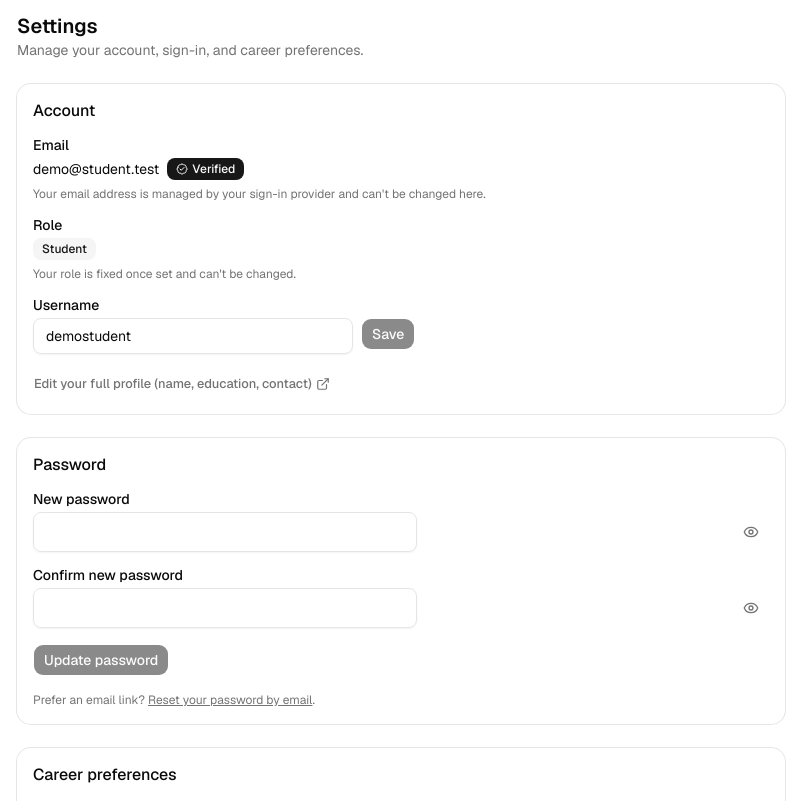
it: SettingsView › changes the password via the established updatePassword flow
In the password field labelled "New password": (225,532) [33,512,417,552], type "Str0ngPass1"
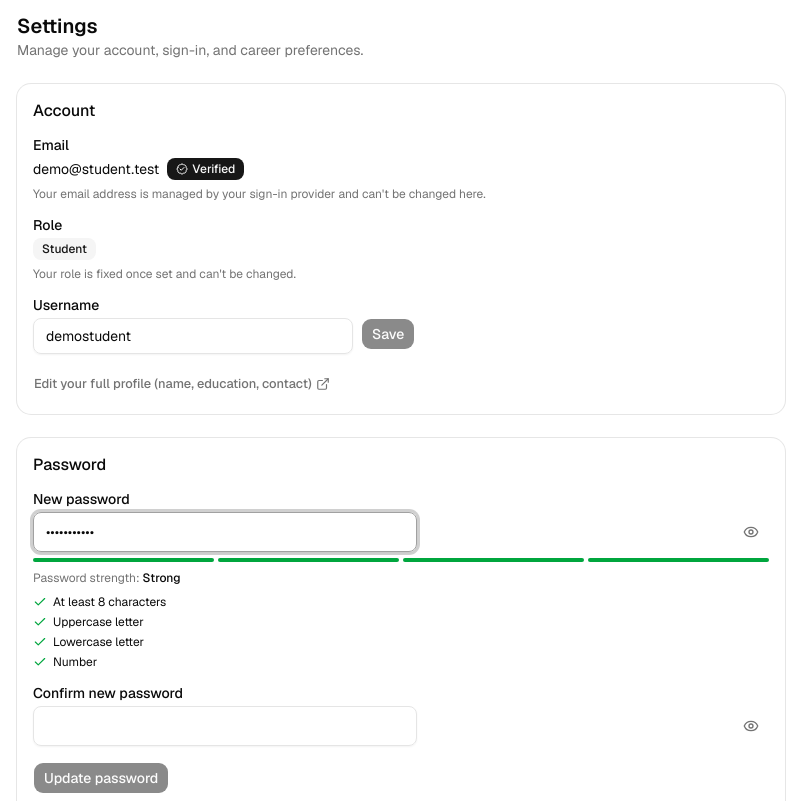
In the password field labelled "Confirm new password": (225,726) [33,706,417,746], type "Str0ngPass1"
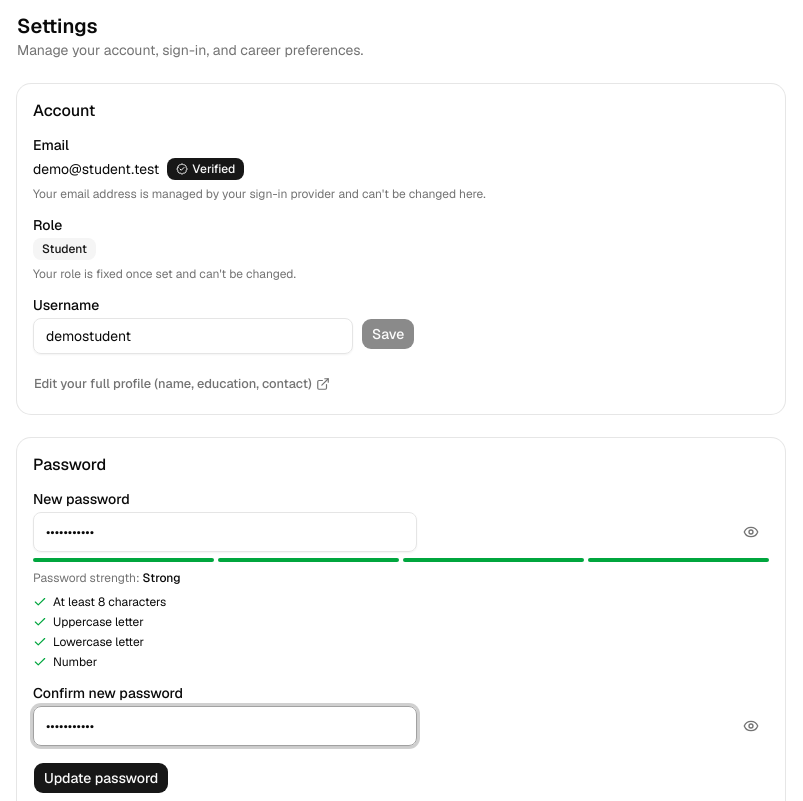
Click the button "Update password": (101,778) [33,762,169,794]
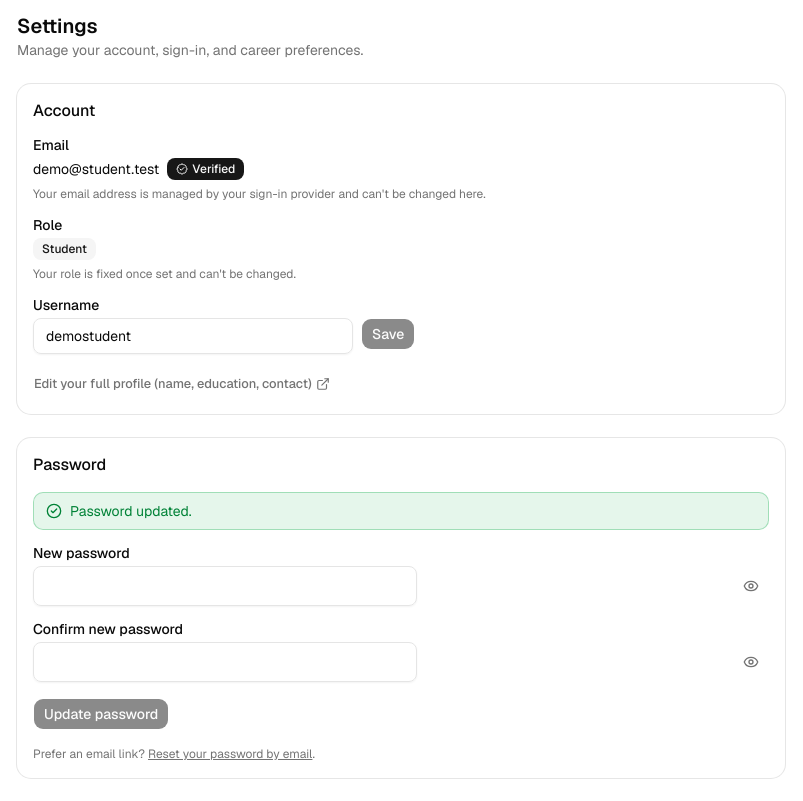
Result: the text "Password updated." is shown at [70,501,192,521]
